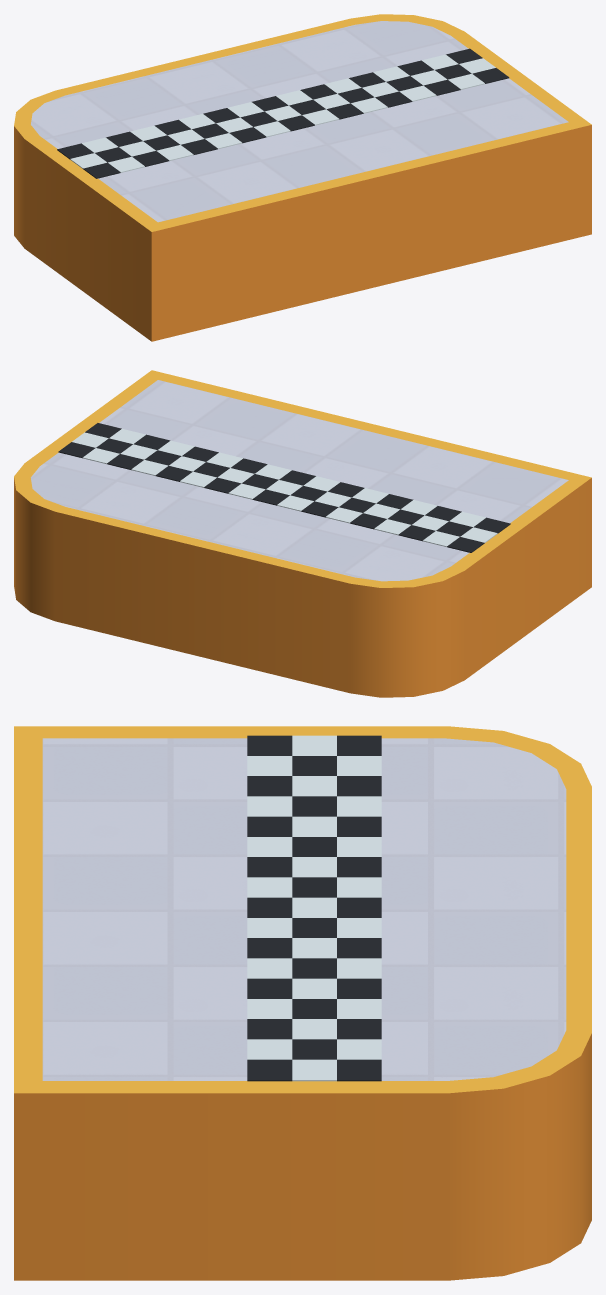
Rendered from Start_segment.fbx.
The picture shows the model from 3 angles, top to bottom: view 1: azimuth 30°, elevation 25°; view 2: azimuth 150°, elevation 25°; view 3: azimuth 270°, elevation 25°; orthographic projection. The views are drawn at different scales.
Visible parts, largest first — view 1: Start_segment; view 2: Start_segment; view 3: Start_segment.
Part boxes in pixels (x1,y1,x2,y2): Start_segment: (14, 14, 591, 341); Start_segment: (14, 370, 591, 697); Start_segment: (14, 726, 591, 1280).
Size of the model in its own units: 3005 by 721 by 2000.
